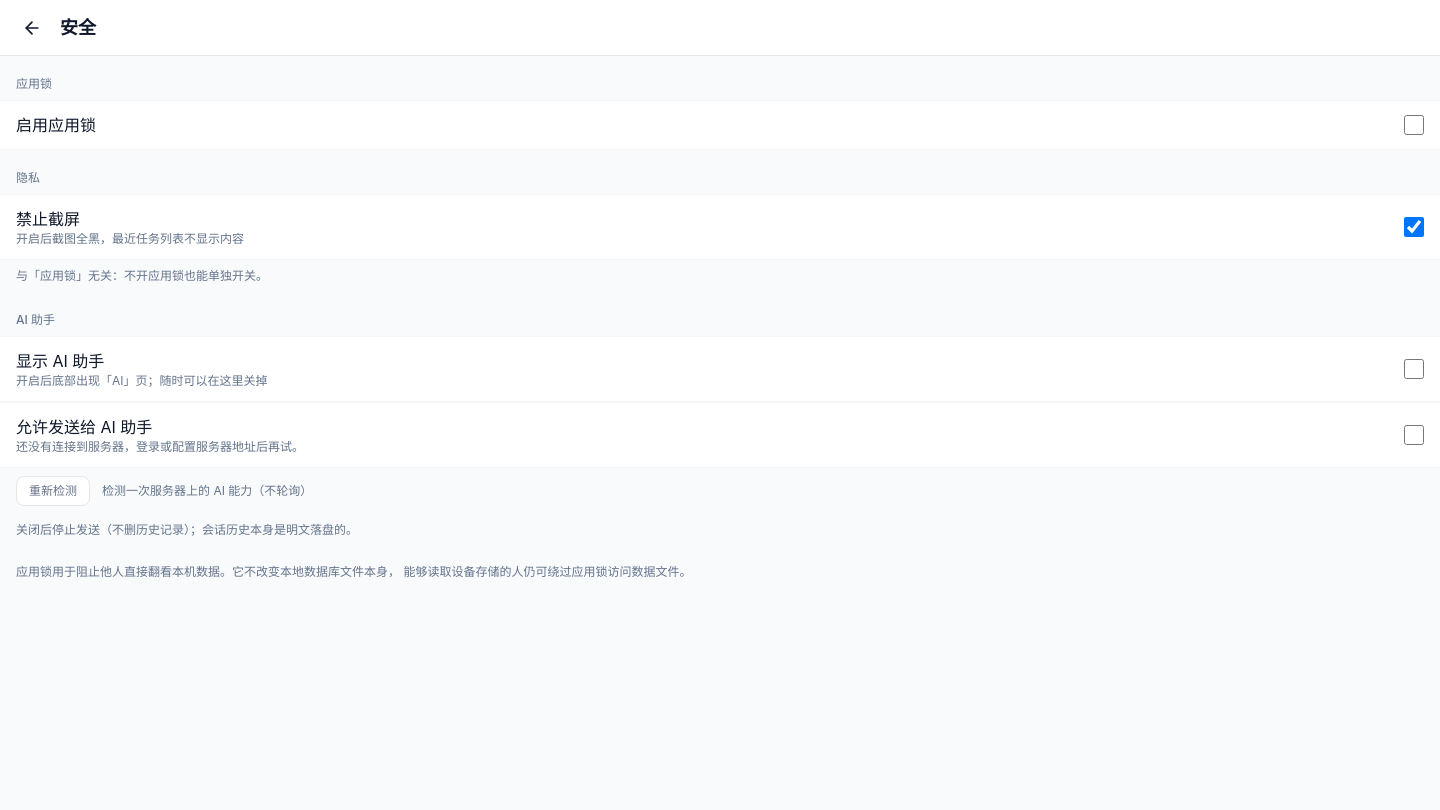
Test case: 隐私区 AI 区块：恒可达（G2/C2） › ⑥ 入口开关落盘失败 ⇒ 报错 + DOM 勾选态拉回真相（不许显示一个没写进去的入口）
Click the checkbox with test id "ai-entry-enabled" at (1414, 369), box 1404,359 -> 1424,379
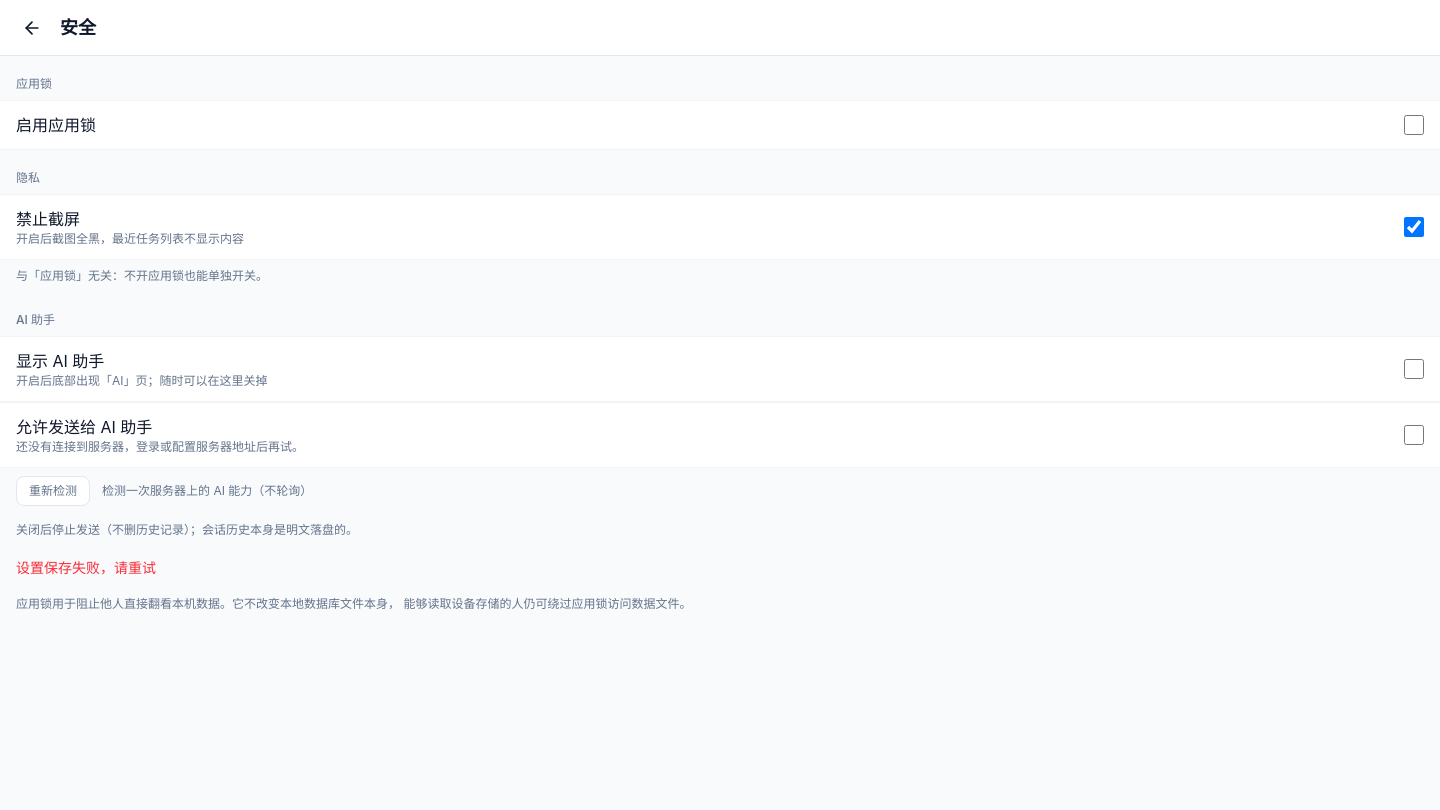
Now the message with test id "security-error" reads "设置保存失败，请重试", box 16,559 -> 156,576
